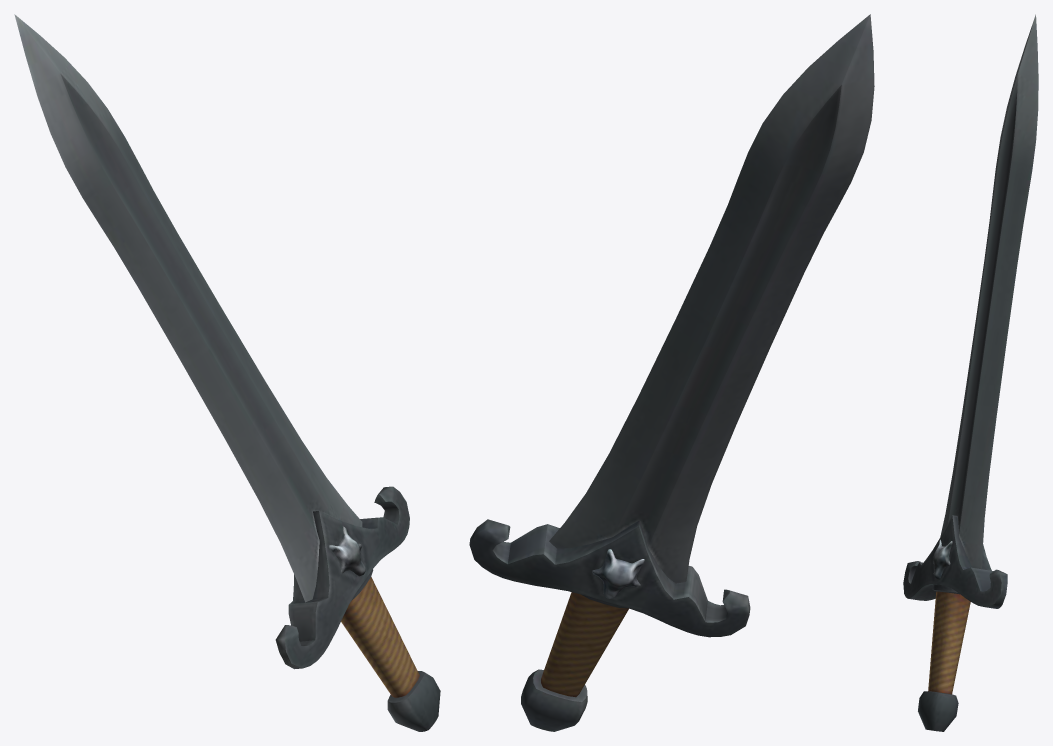
File: circles-sword.glb
3 renders of one model, left to right at view 1: azimuth 30°, elevation 25°; view 2: azimuth 150°, elevation 25°; view 3: azimuth 270°, elevation 25°, orthographic. The views are drawn at different scales.
Parts seen in each view (by area): view 1: Espada; view 2: Espada; view 3: Espada.
Part boxes in pixels (bbox=[...]): Espada: bbox=[14, 14, 440, 731]; Espada: bbox=[469, 14, 874, 731]; Espada: bbox=[903, 14, 1038, 731].
Bounding box in the file's own units: 0.6313 × 1.23 × 0.2561.
1 material, 1 textured.
